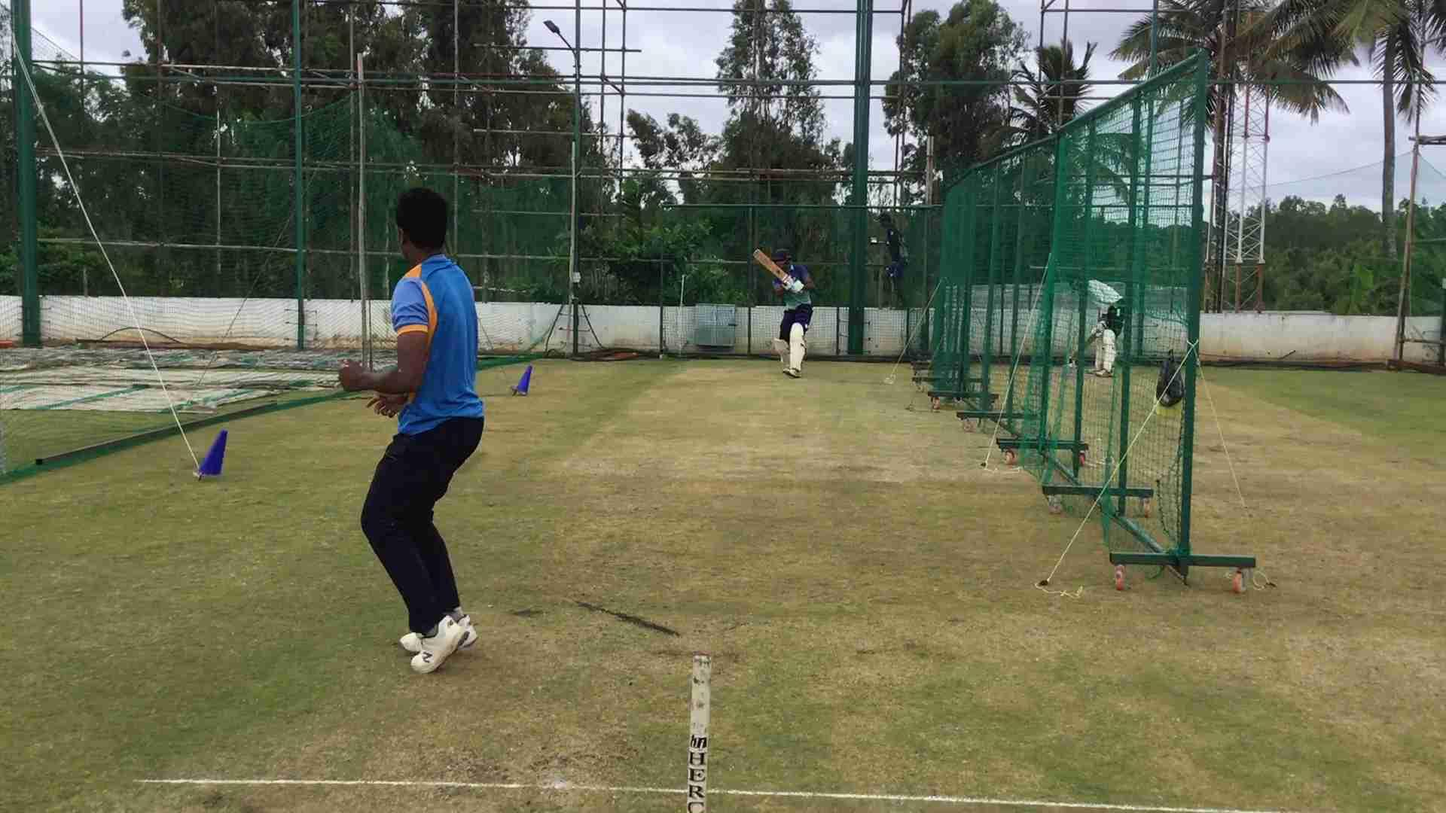batsman: (766, 242, 818, 385)
